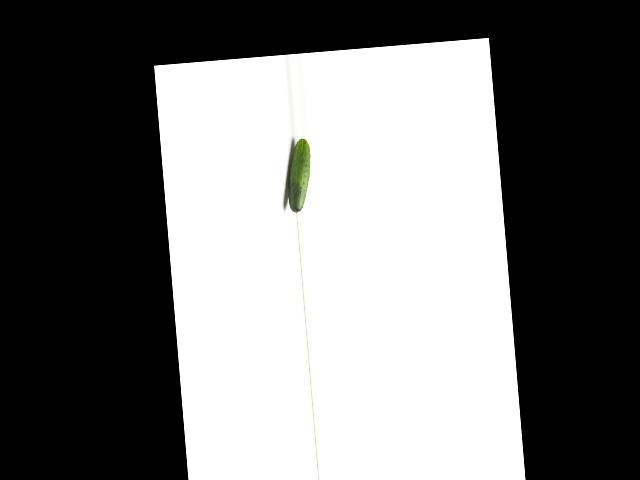cucumber: (283, 138, 315, 214)
